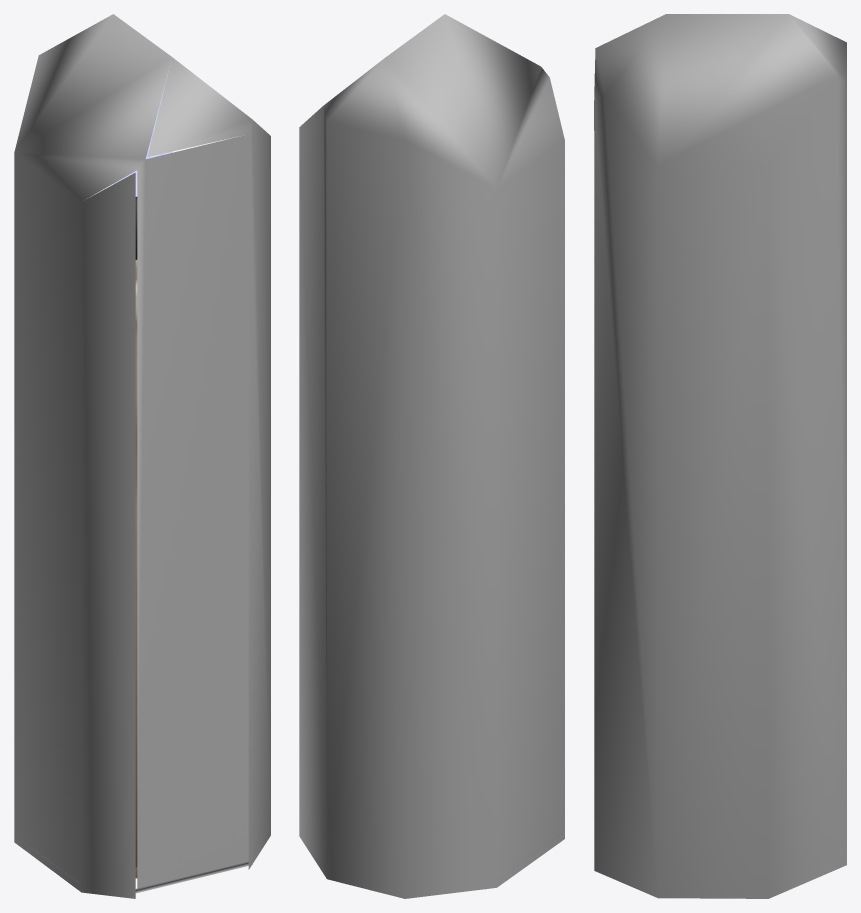
The model's file is SM_Candle_03.gltf.
3 renders of one model, left to right at view 1: azimuth 30°, elevation 25°; view 2: azimuth 150°, elevation 25°; view 3: azimuth 270°, elevation 25°, orthographic. The views are drawn at different scales.
Visible parts, largest first — view 1: SM_Candle_03_ConvexHulls, SM_Candle_03_LOD0; view 2: SM_Candle_03_ConvexHulls; view 3: SM_Candle_03_ConvexHulls.
Part boxes in pixels (x1,y1,x2,y2): SM_Candle_03_ConvexHulls: (14, 14, 270, 898); SM_Candle_03_LOD0: (112, 71, 172, 878); SM_Candle_03_ConvexHulls: (299, 14, 564, 898); SM_Candle_03_ConvexHulls: (594, 14, 846, 898).
Size of what is drawn, in the model's own units: 0.0742 by 0.2819 by 0.0771.
Materials: 3 (1 with a texture image).
